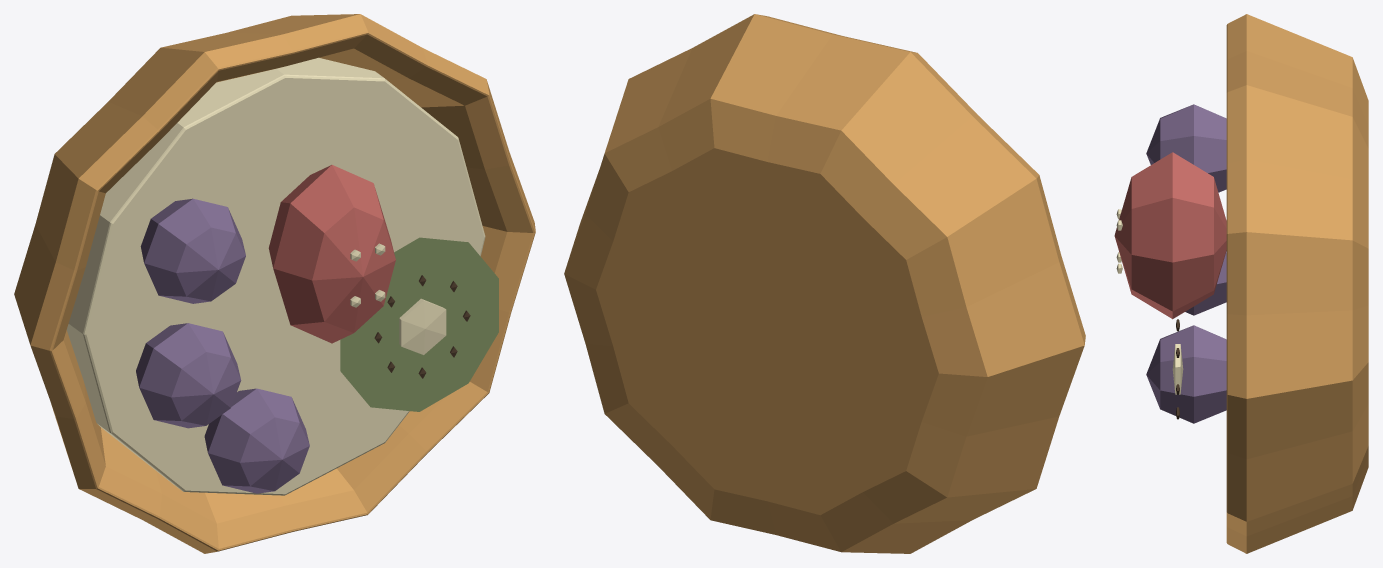
Rendered from fruit_tart.glb.
3 views of the same model, side by side, from view 1: azimuth 30°, elevation 25°; view 2: azimuth 150°, elevation 25°; view 3: azimuth 270°, elevation 25° (orthographic). The views are drawn at different scales.
Parts seen in each view (by area): view 1: fruit_tart; view 2: fruit_tart; view 3: fruit_tart.
Part boxes in pixels (x1,y1,x2,y2): fruit_tart: (14, 14, 535, 553); fruit_tart: (564, 14, 1085, 553); fruit_tart: (1114, 14, 1368, 553).
Bounding box in the file's own units: 0.1028 × 0.0978 × 0.048.
